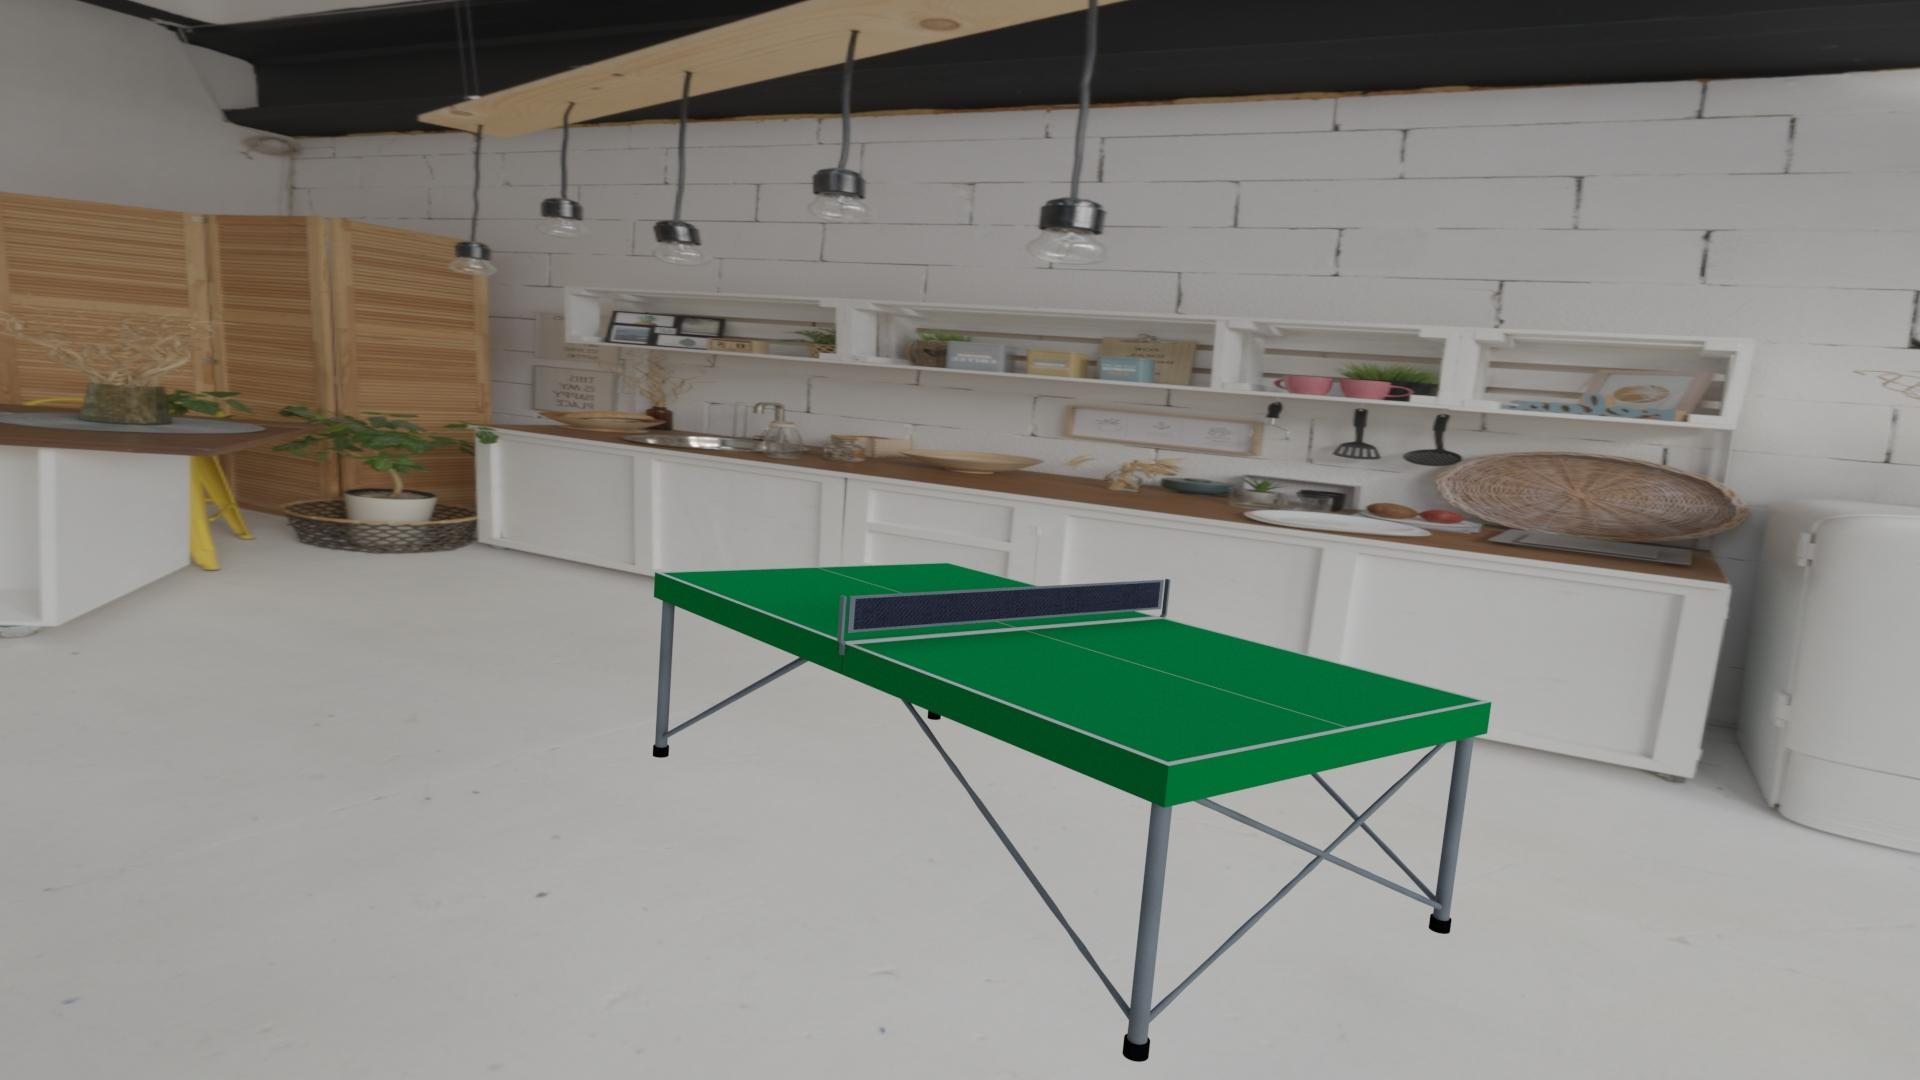table: (662, 563, 1482, 762)
